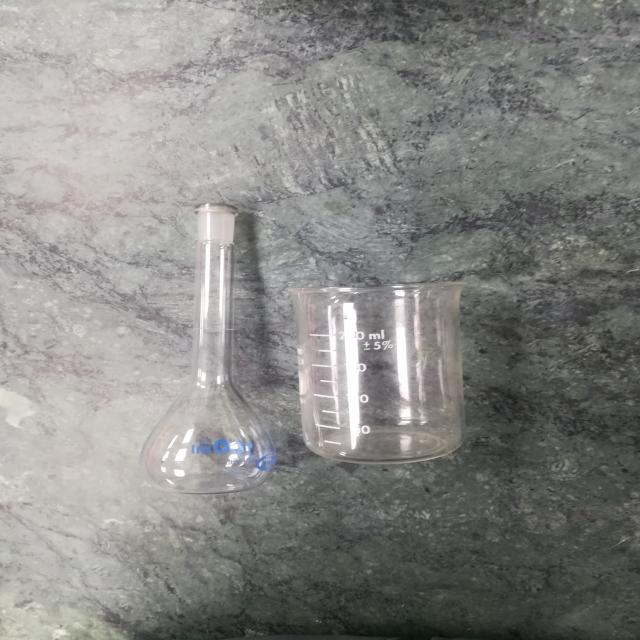Beaker: (293, 267, 512, 475)
Volumetric_Flask: (101, 184, 292, 506)
